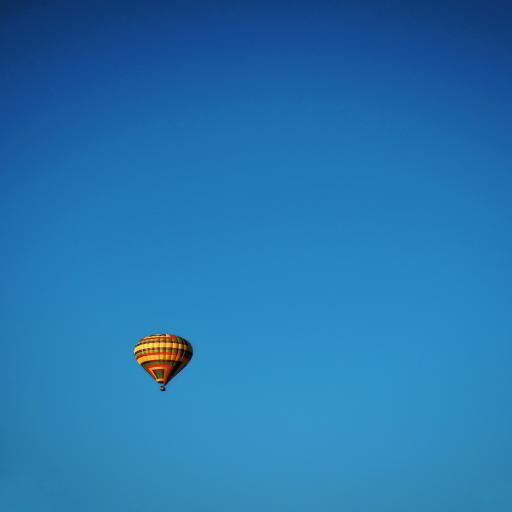hot air ballon: (134, 334, 194, 391)
